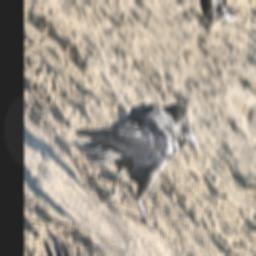Crow: (64, 29, 206, 256)
